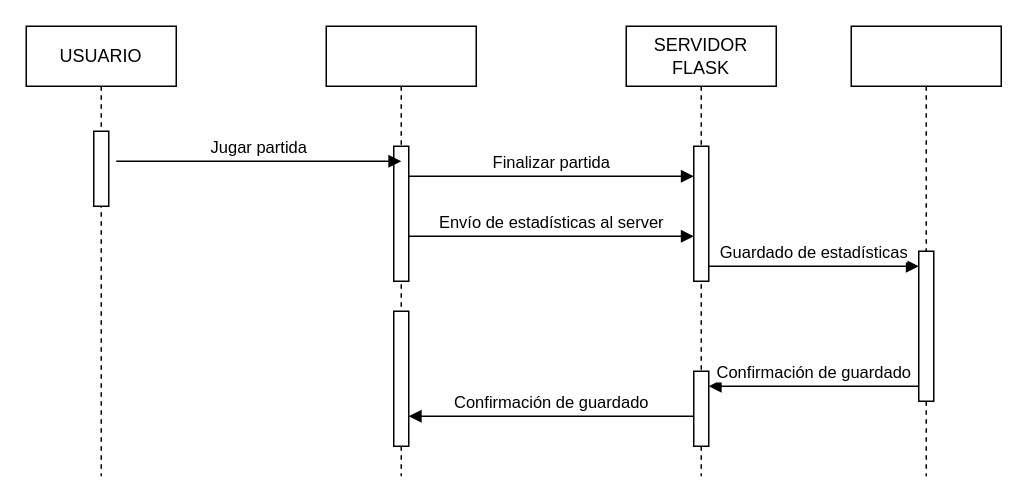
Image size: 1028x503. Some labels were removed from this diagram. The shapes that lost their labels are listed below. From the top down, each one's centre as x and y in pixels, then its label:
At point 400,250: "JUEGO (Unity)".
At point 925,250: "BASE DE DATOS".
